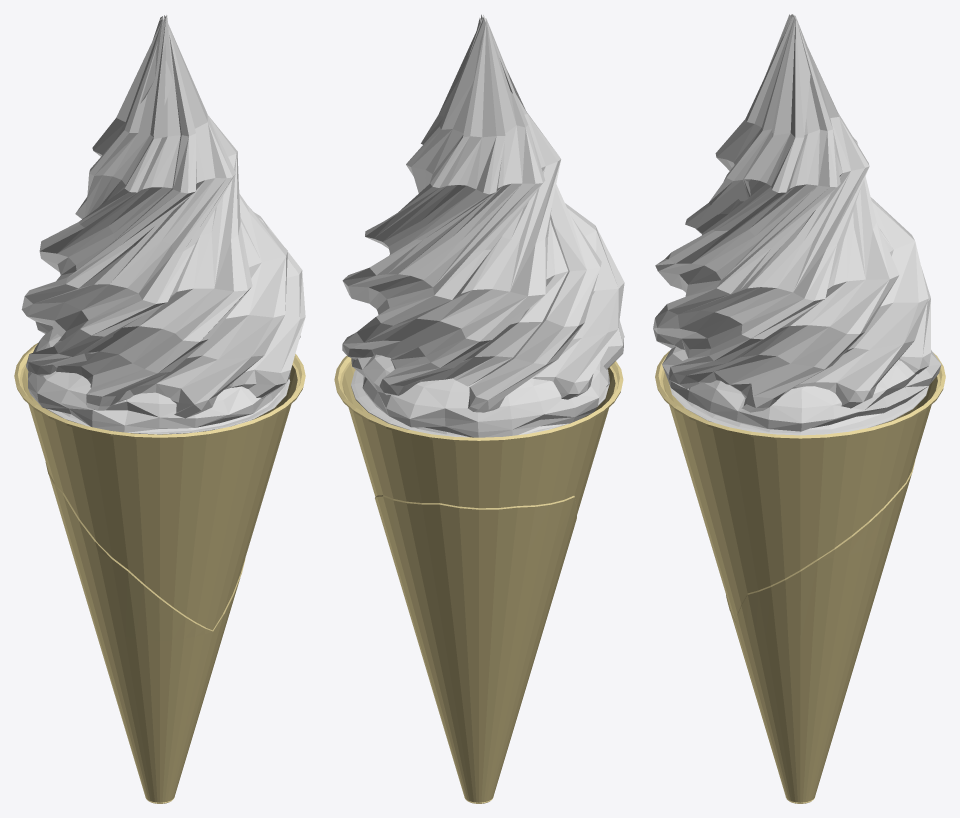
The model's file is Ice Cream.gltf.
3 views of the same model, side by side, from view 1: azimuth 30°, elevation 25°; view 2: azimuth 150°, elevation 25°; view 3: azimuth 270°, elevation 25° (orthographic).
Parts seen in each view (by area): view 1: node-0; view 2: node-0; view 3: node-0.
Boxes of the visible parts, x1=… form: node-0: x1=14, y1=15, x2=305, y2=803; node-0: x1=334, y1=14, x2=624, y2=803; node-0: x1=653, y1=14, x2=945, y2=803.
Bounding box in the file's own units: 67.47 × 201 × 67.91.
